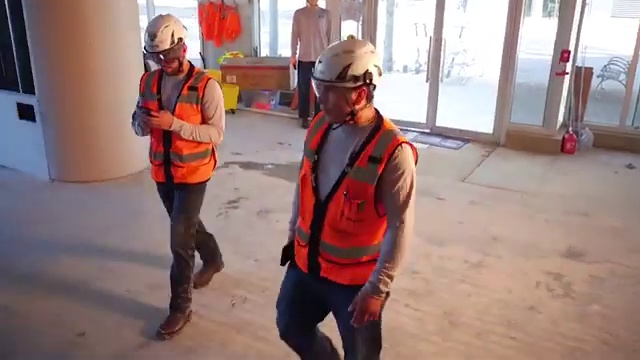helmet: (310, 35, 382, 85), (136, 9, 194, 50)
jacket: (300, 119, 400, 291), (141, 70, 231, 190)
